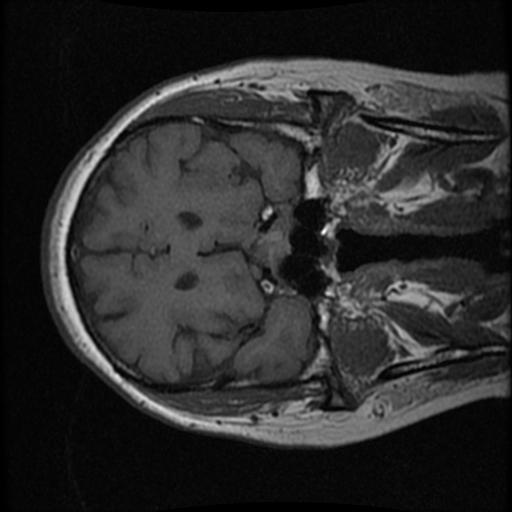pituitary tumour: (254, 214, 291, 270)
